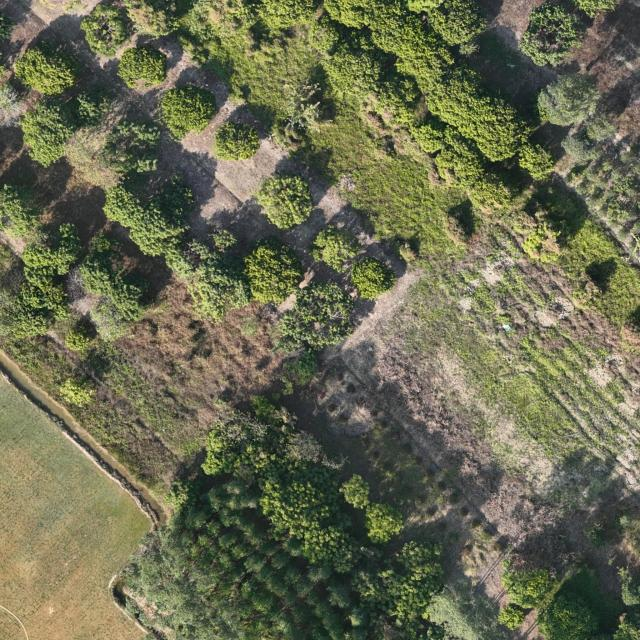tree: (272, 282, 355, 351), (243, 234, 305, 307), (517, 2, 583, 67), (17, 99, 76, 168), (496, 566, 556, 632), (156, 82, 220, 142), (255, 168, 315, 231), (530, 72, 600, 126), (13, 46, 76, 96), (558, 114, 619, 162), (311, 222, 362, 275), (80, 2, 130, 55), (115, 44, 168, 92), (349, 255, 395, 300), (214, 119, 261, 163), (362, 501, 405, 546), (337, 474, 370, 509)
